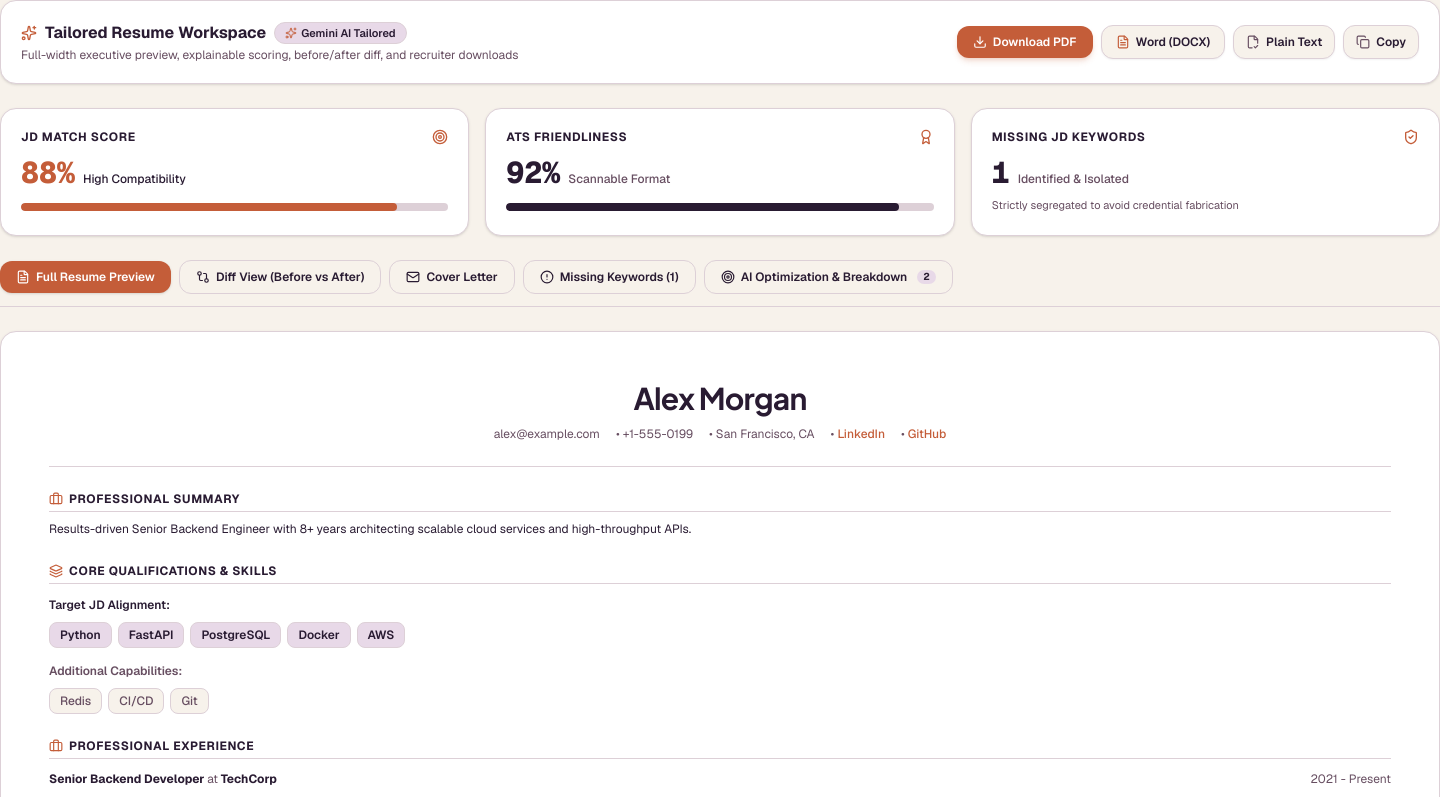
Scenario: Phase 6.2 Professional ATS Resume Engine - Frontend Tests › renders ATS Quality Assessment and Quality Audit findings in TailoredResumeView optimization tab
Click the button "AI Optimization & Breakdown 2" at [828, 277], box [704,260,953,294]
(page scrolled)
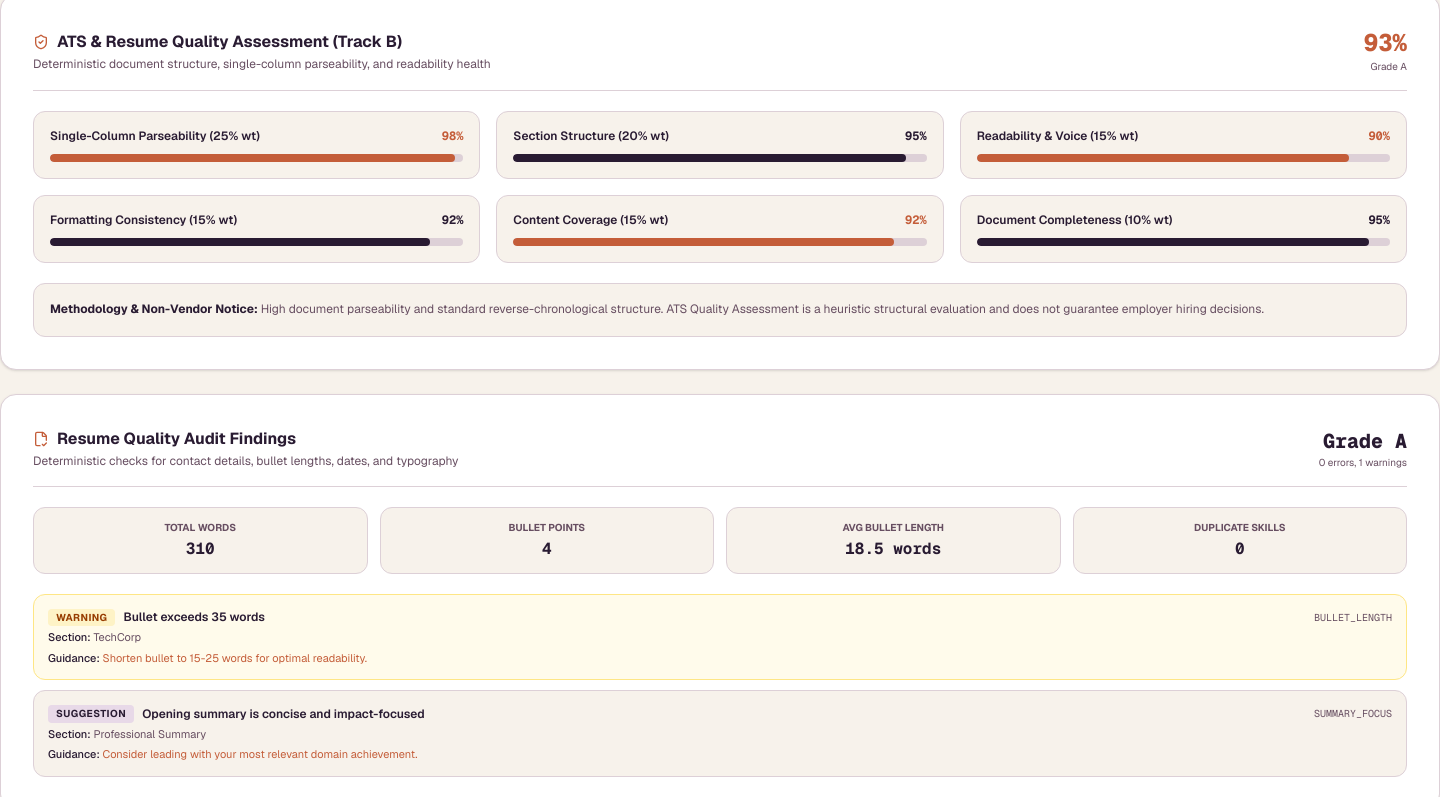
Expected: the heading "ATS & Resume Quality Assessment (Track B)" is shown, [33,31,402,52]
Expected: the text "Single-Column Parseability (25% wt)" is shown, [50,128,260,144]
Expected: the heading "Resume Quality Audit Findings" is shown, [33,428,296,449]
